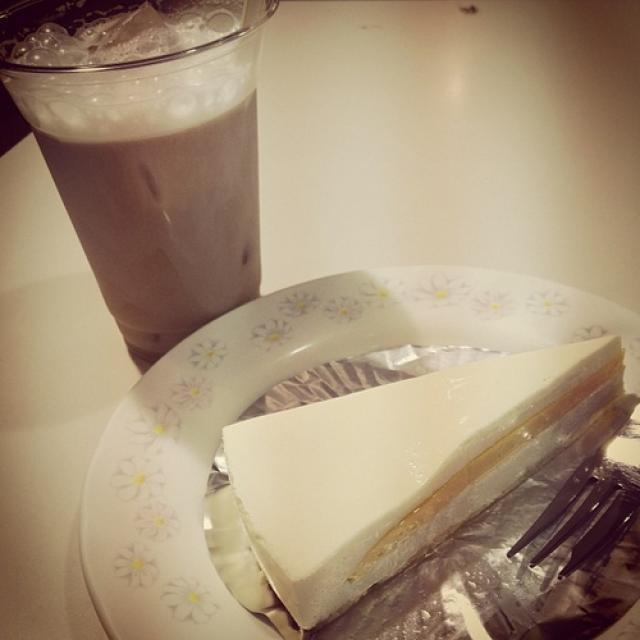Rare cheese cake: (192, 309, 640, 631)
